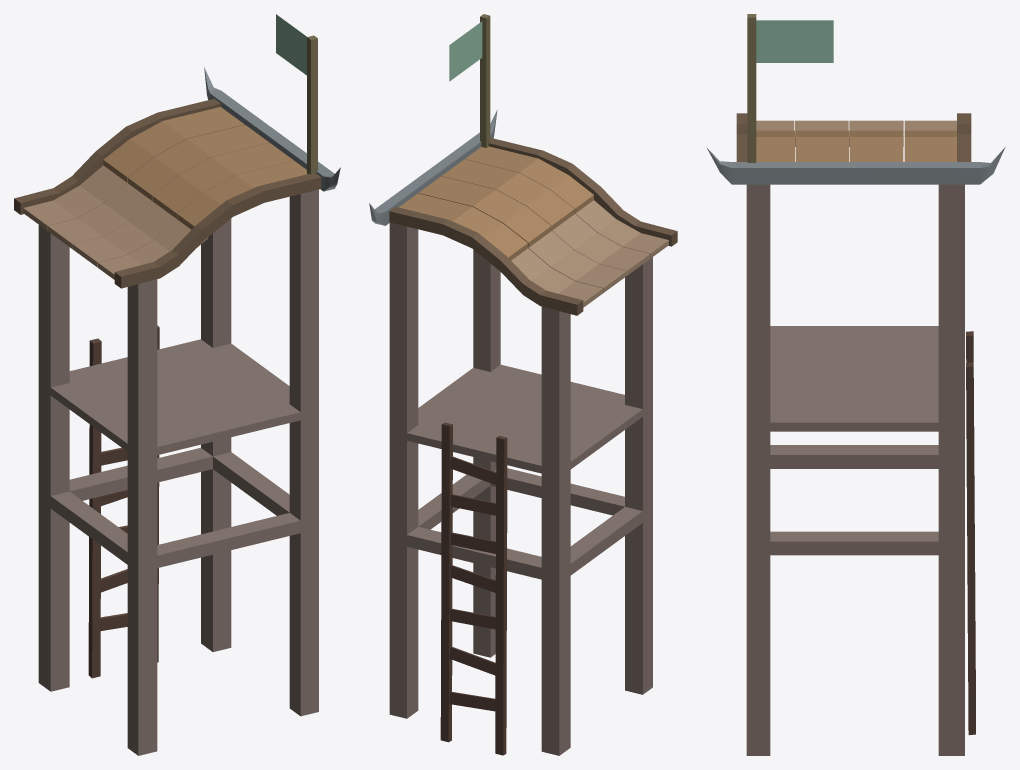
File: torre_vigia (1).fbx
The picture shows the model from 3 angles, left to right: view 1: azimuth 30°, elevation 25°; view 2: azimuth 150°, elevation 25°; view 3: azimuth 270°, elevation 25°; orthographic projection. The views are drawn at different scales.
Parts seen in each view (by area): view 1: pCube1, pCube24, pCube25, pCube26, polySurface8, pCube12, pCube23, pPlane1; view 2: pCube1, pCube24, polySurface8, pCube25, pCube26, pCube12, pCube23, pPlane1; view 3: pCube1, pCube24, pCube12, pPlane1, polySurface8, pCube25, pCube23, pCube26.
Part boxes in pixels (<box>): pCube1: <box>38,189,318,755</box>; pCube24: <box>103,107,306,229</box>; pCube25: <box>23,165,207,279</box>; pCube26: <box>14,99,321,288</box>; polySurface8: <box>88,325,159,678</box>; pCube12: <box>204,67,340,191</box>; pCube23: <box>307,35,317,174</box>; pPlane1: <box>276,14,306,75</box>; pCube1: <box>389,222,652,755</box>; pCube24: <box>399,146,593,260</box>; polySurface8: <box>440,422,507,755</box>; pCube25: <box>511,200,668,307</box>; pCube26: <box>389,137,677,315</box>; pCube12: <box>369,109,497,225</box>; pCube23: <box>480,14,490,147</box>; pPlane1: <box>449,21,482,81</box>; pCube1: <box>746,184,964,755</box>; pCube24: <box>756,130,956,161</box>; pCube12: <box>706,147,1005,184</box>; pPlane1: <box>756,20,833,62</box>; polySurface8: <box>966,331,975,734</box>; pCube25: <box>756,120,956,146</box>; pCube23: <box>747,14,756,162</box>; pCube26: <box>736,113,971,161</box>.
Bounding box in the file's own units: 18.78 × 58.03 × 21.04.
